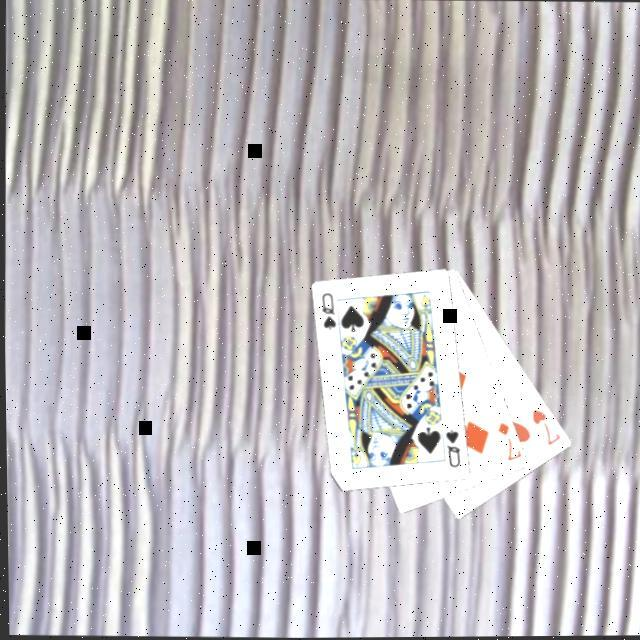7D: (494, 417, 524, 462)
7H: (528, 404, 564, 448)
QS: (441, 424, 465, 469), (318, 287, 340, 331)
